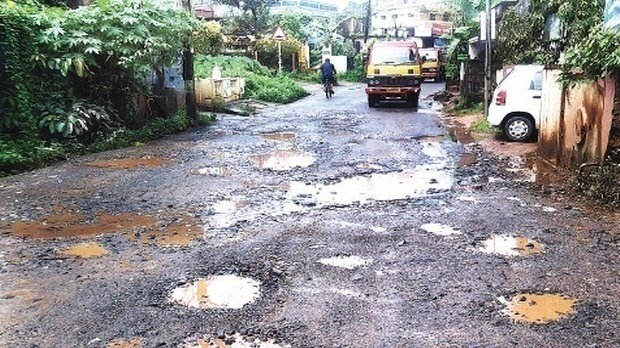pothole: (259, 119, 454, 206), (5, 201, 197, 266), (167, 254, 269, 324), (462, 221, 549, 276), (485, 285, 580, 329), (90, 138, 184, 180)
